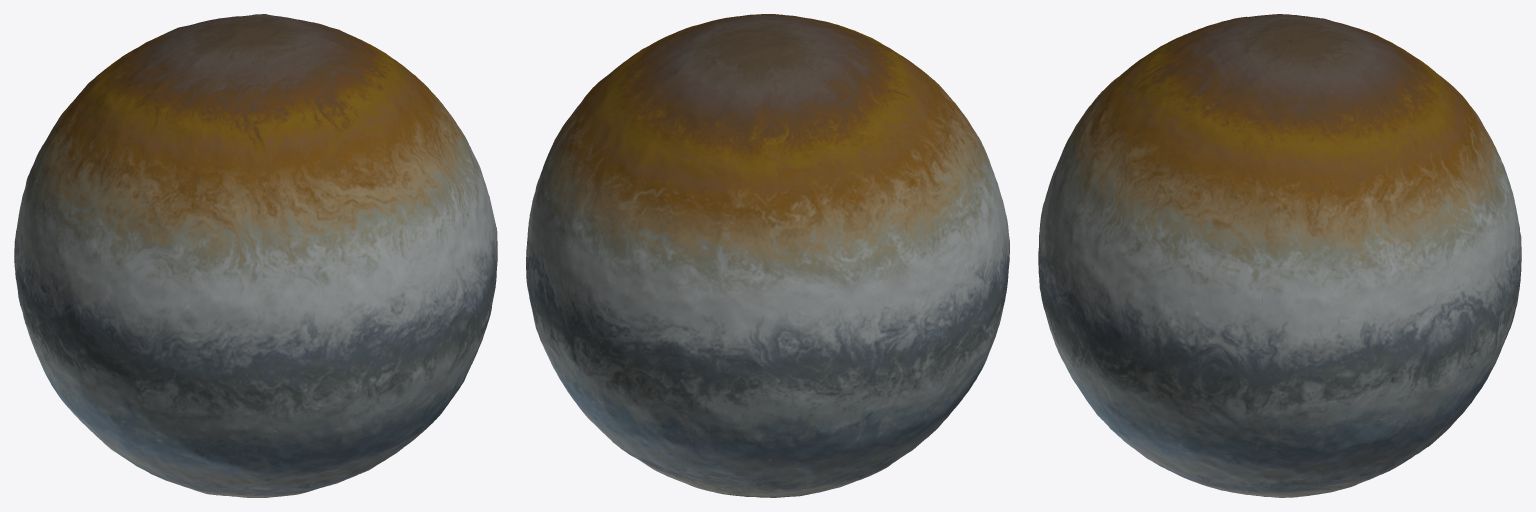
Rendered from jupiter.glb.
3 views of the same model, side by side, from view 1: azimuth 30°, elevation 25°; view 2: azimuth 150°, elevation 25°; view 3: azimuth 270°, elevation 25° (orthographic).
Visible parts, largest first — view 1: planet; view 2: planet; view 3: planet.
Boxes of the visible parts, x1,y1,x2,y2 form: planet: (14, 14, 497, 497); planet: (526, 14, 1009, 497); planet: (1038, 14, 1521, 497).
Size of the model in its own units: 201354 by 201240 by 201640.
Materials: 1 (1 with a texture image).
